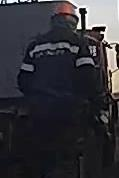helmet: (49, 1, 79, 22)
vest: (26, 31, 93, 122)
